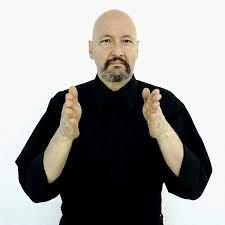Persons: (84, 9, 150, 91)
